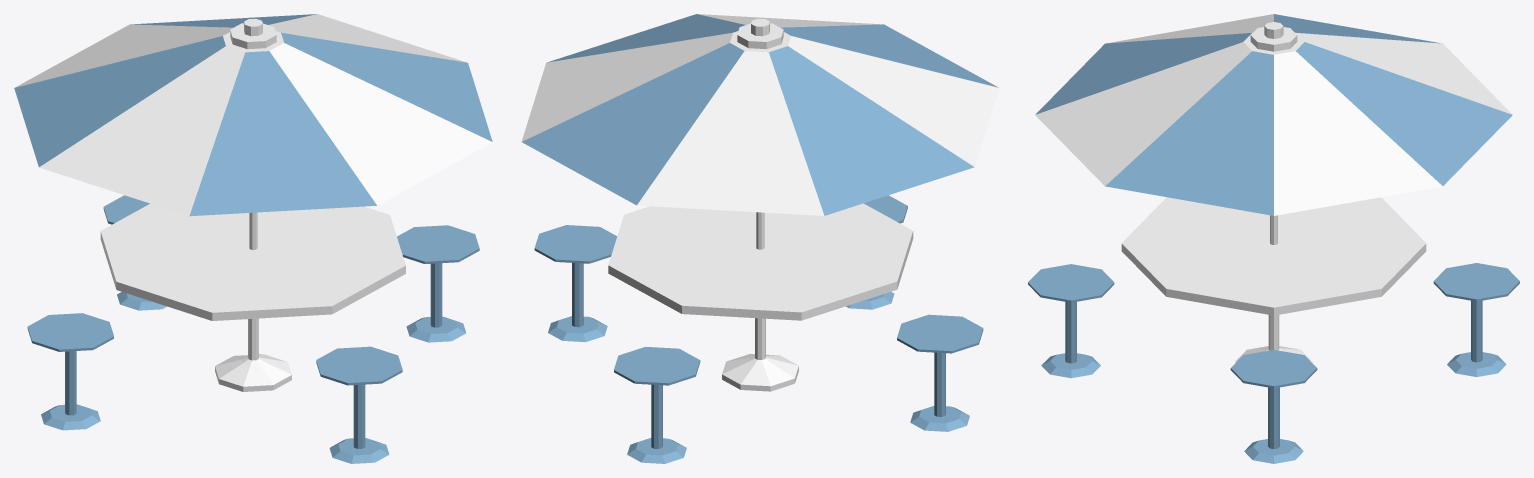
Rendered from Mesa_Piscina_1.fbx.
The picture shows the model from 3 angles, left to right: view 1: azimuth 30°, elevation 25°; view 2: azimuth 150°, elevation 25°; view 3: azimuth 270°, elevation 25°; orthographic projection. The views are drawn at different scales.
Parts seen in each view (by area): view 1: pCylinder4, meza, silla2, silla3, silla1, pCylinder11, silla4; view 2: pCylinder4, meza, silla4, silla3, silla1, pCylinder11, silla2; view 3: pCylinder4, meza, silla2, silla4, silla1, pCylinder11.
Part boxes in pixels (<box>): pCylinder4: <box>14,14,492,216</box>; meza: <box>100,203,405,320</box>; silla2: <box>316,346,402,463</box>; silla3: <box>27,313,113,430</box>; silla1: <box>397,225,479,342</box>; pCylinder11: <box>215,318,291,391</box>; silla4: <box>103,195,166,310</box>; pCylinder4: <box>521,14,999,215</box>; meza: <box>608,203,913,320</box>; silla4: <box>614,346,700,463</box>; silla3: <box>897,314,983,431</box>; silla1: <box>534,225,617,342</box>; pCylinder11: <box>722,318,798,391</box>; silla2: <box>846,195,907,309</box>; pCylinder4: <box>1035,14,1512,215</box>; meza: <box>1121,197,1426,315</box>; silla2: <box>1028,264,1114,378</box>; silla4: <box>1433,263,1519,376</box>; silla1: <box>1230,349,1317,463</box>; pCylinder11: <box>1235,315,1312,362</box>.
Size of the model in its own units: 16.06 by 12.26 by 16.06.
